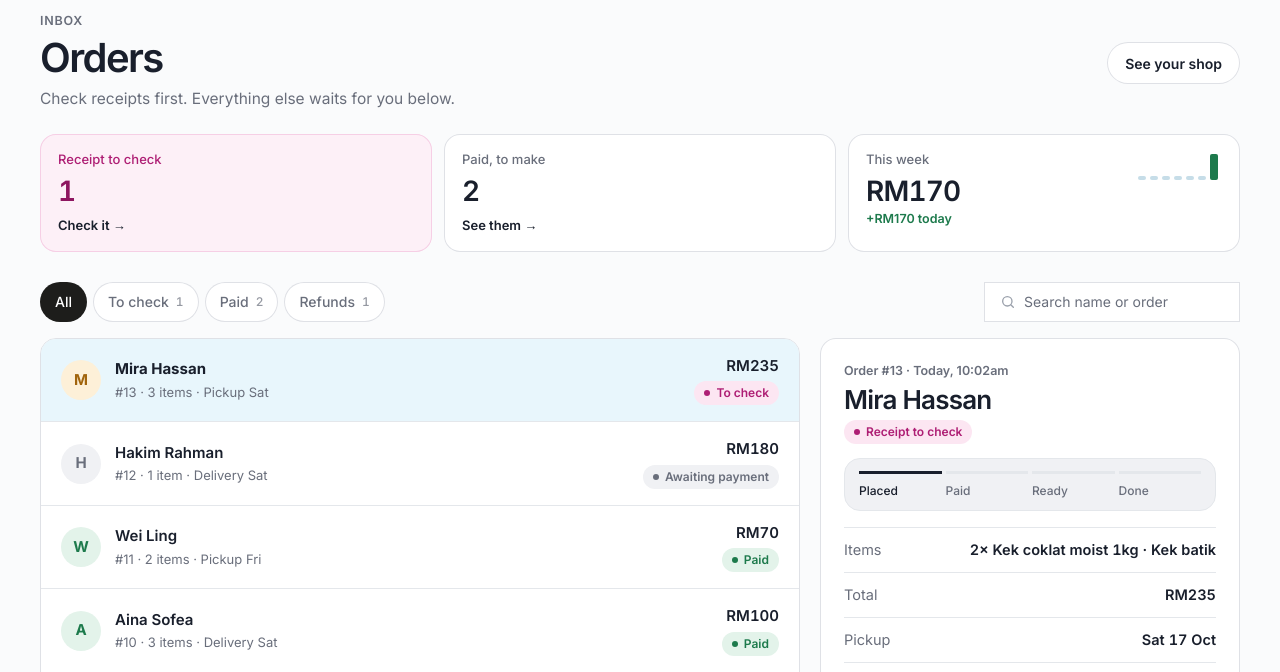
Test case: OrdersScreen, the filter bar › narrows the list by name, by order number, and by an item, inside the filter chosen
The width and height of the screenshot is (1280, 672).
Type "wei" into the search field labelled "Search name or order" at (1124, 302), box [1024,284,1224,320]
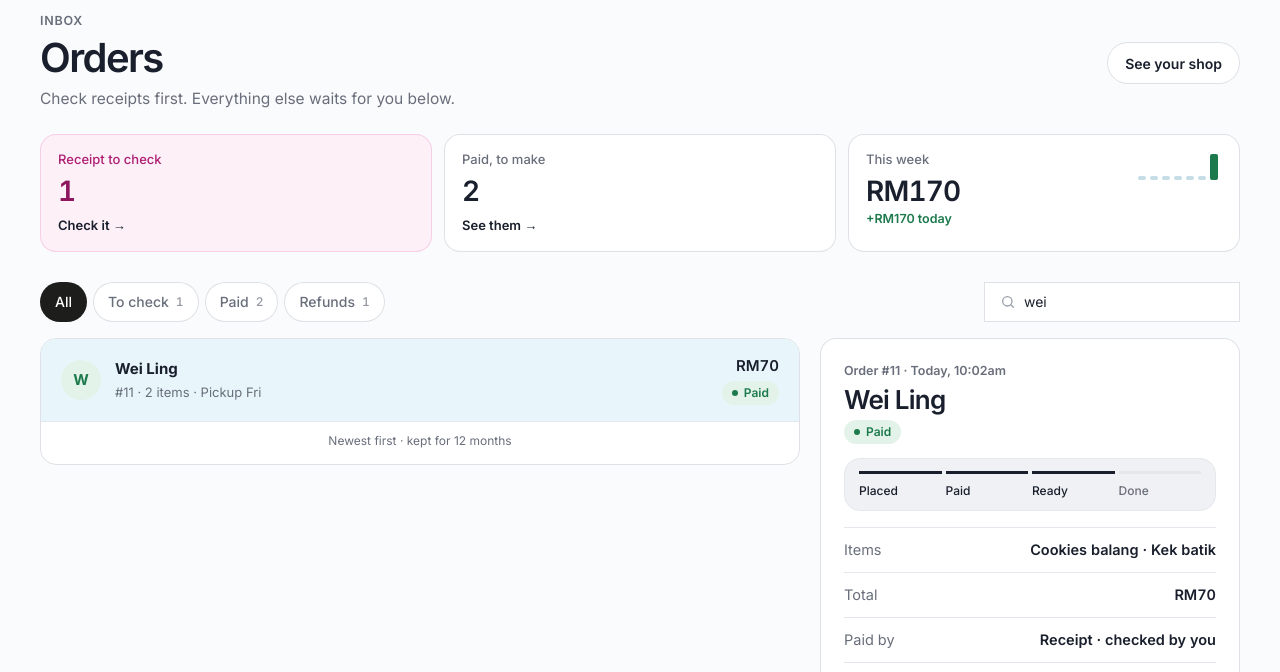
Expected: the text "Wei Ling" is shown, [115,359,178,378]
Replace the text in the search field named "Search name or order" with "#10" at (1124, 302), box [1024,284,1224,320]
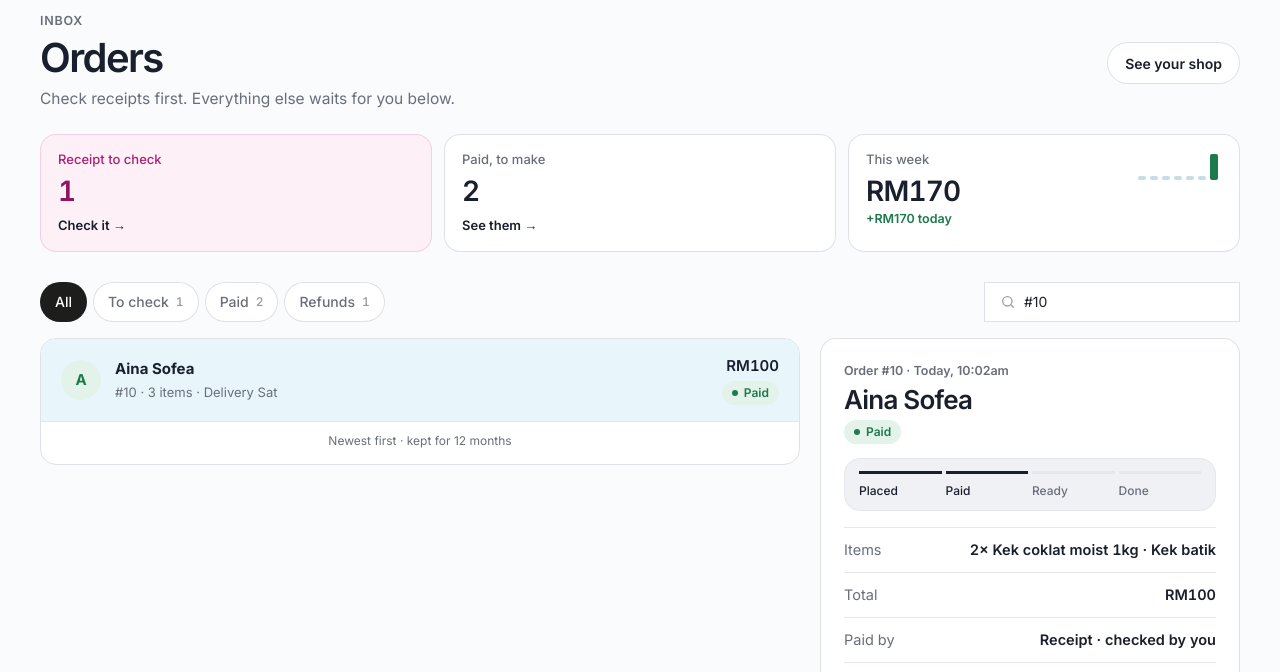
Replace the text in the search field named "Search name or order" with "cheesecake" at (1124, 302), box [1024,284,1224,320]
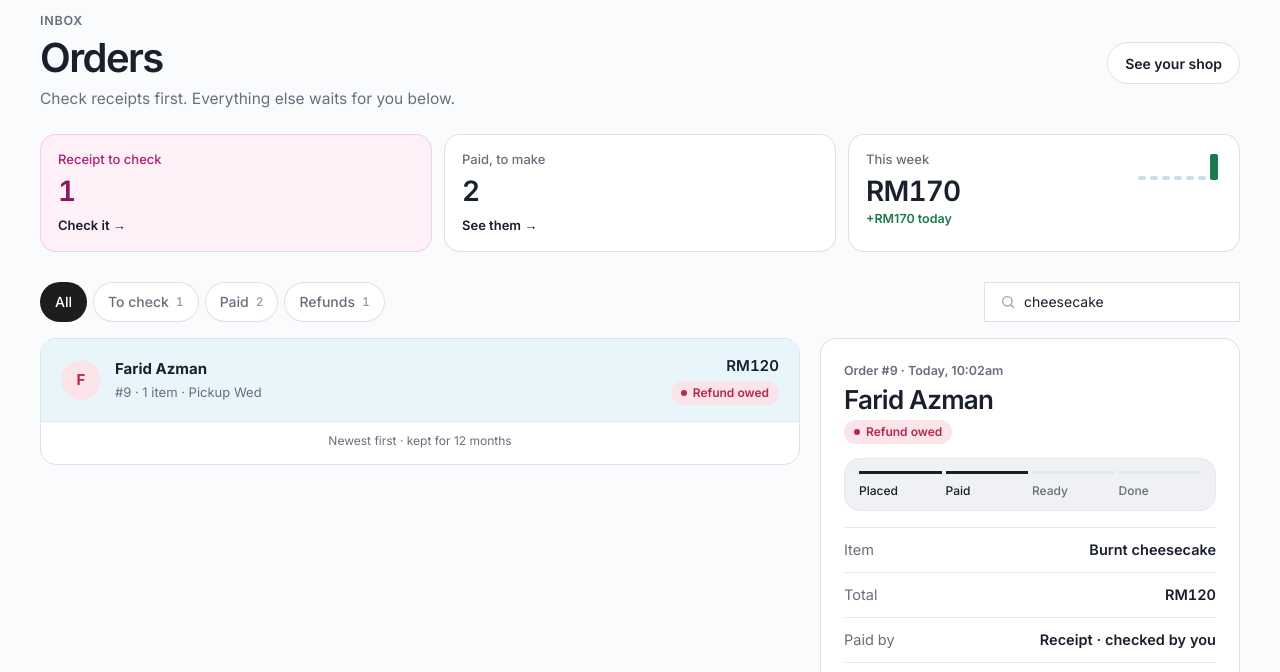
Click the button "Paid 2" at (242, 302), box [205,282,278,322]
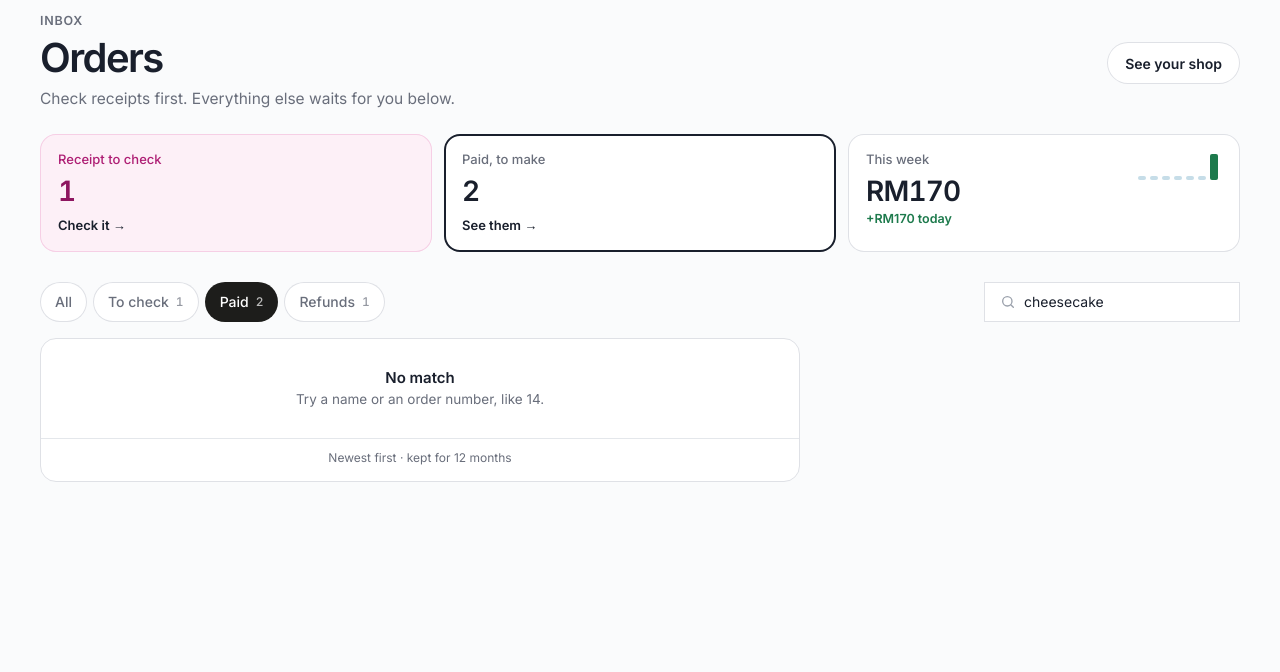
Now the text "No match" is shown, box [385,368,455,387]
